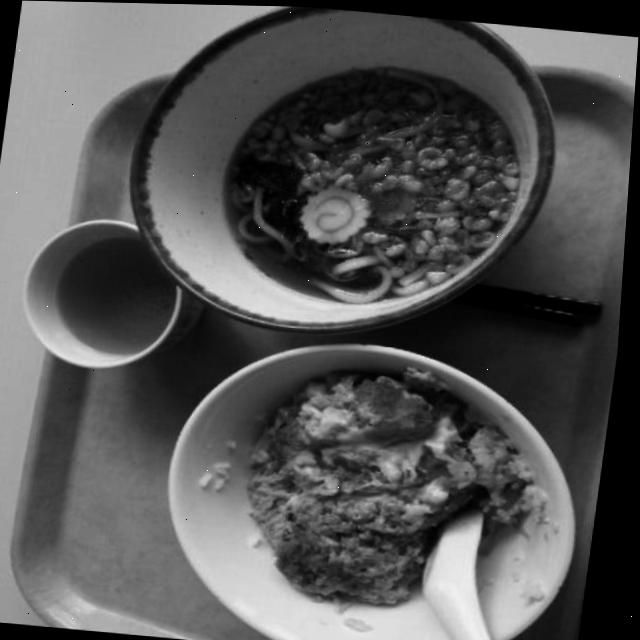面条主食: (107, 2, 577, 354)
